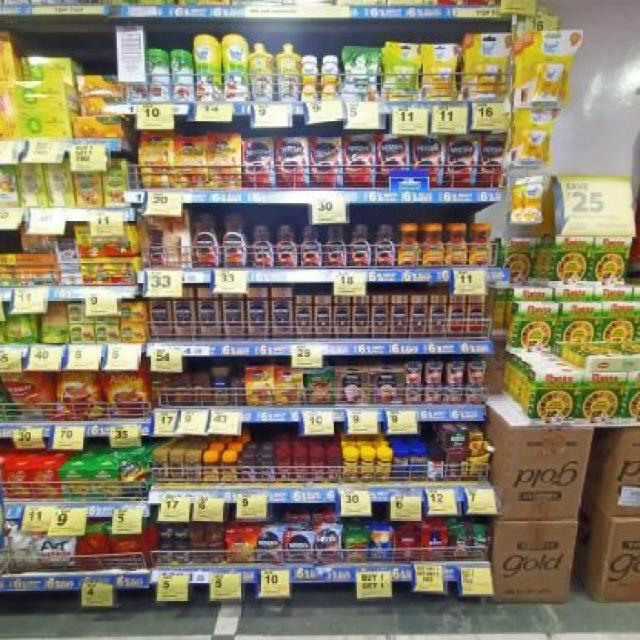Coffee: (140, 130, 172, 188), (445, 134, 478, 188), (208, 134, 240, 188), (175, 136, 207, 189), (378, 136, 410, 187), (275, 139, 308, 187), (412, 136, 443, 187), (478, 134, 507, 188), (242, 138, 273, 188), (311, 140, 343, 186), (222, 214, 249, 268), (344, 138, 374, 185), (193, 213, 219, 267), (150, 289, 173, 340), (270, 288, 293, 338), (198, 288, 220, 340), (175, 288, 196, 340), (248, 288, 269, 338), (276, 367, 304, 404), (324, 224, 348, 267), (223, 294, 245, 340), (247, 368, 275, 404), (350, 223, 372, 266), (373, 223, 395, 266), (397, 224, 420, 265), (300, 225, 323, 266), (314, 528, 341, 562), (422, 224, 444, 265), (470, 224, 492, 265), (252, 226, 274, 266), (276, 226, 298, 266), (284, 532, 313, 562), (447, 224, 468, 264), (256, 530, 281, 562), (229, 530, 254, 562), (409, 296, 428, 338), (314, 296, 332, 339), (428, 296, 446, 338), (371, 296, 389, 338), (390, 295, 407, 339), (334, 296, 351, 338), (296, 296, 312, 338), (353, 297, 369, 338), (202, 457, 220, 483), (240, 455, 256, 483), (258, 456, 274, 484), (221, 457, 237, 483), (154, 454, 168, 483), (170, 455, 185, 482), (186, 456, 200, 484), (158, 524, 173, 539), (157, 548, 171, 563), (174, 549, 189, 563), (175, 526, 187, 540)
